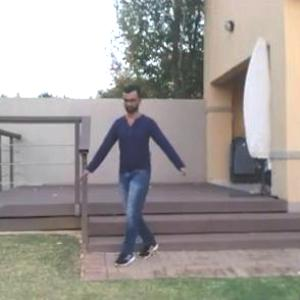land: (88, 92, 196, 269)
